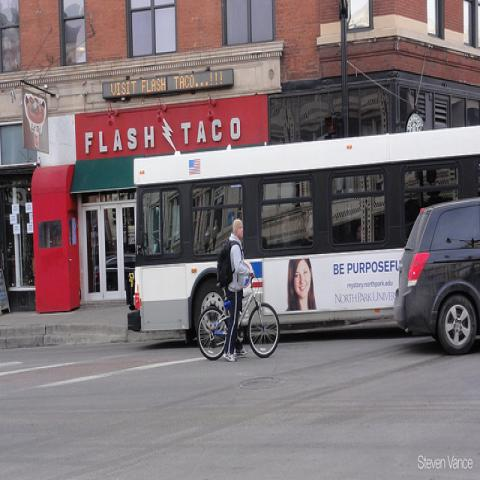bus: (125, 130, 480, 344)
truck: (393, 197, 479, 354)
